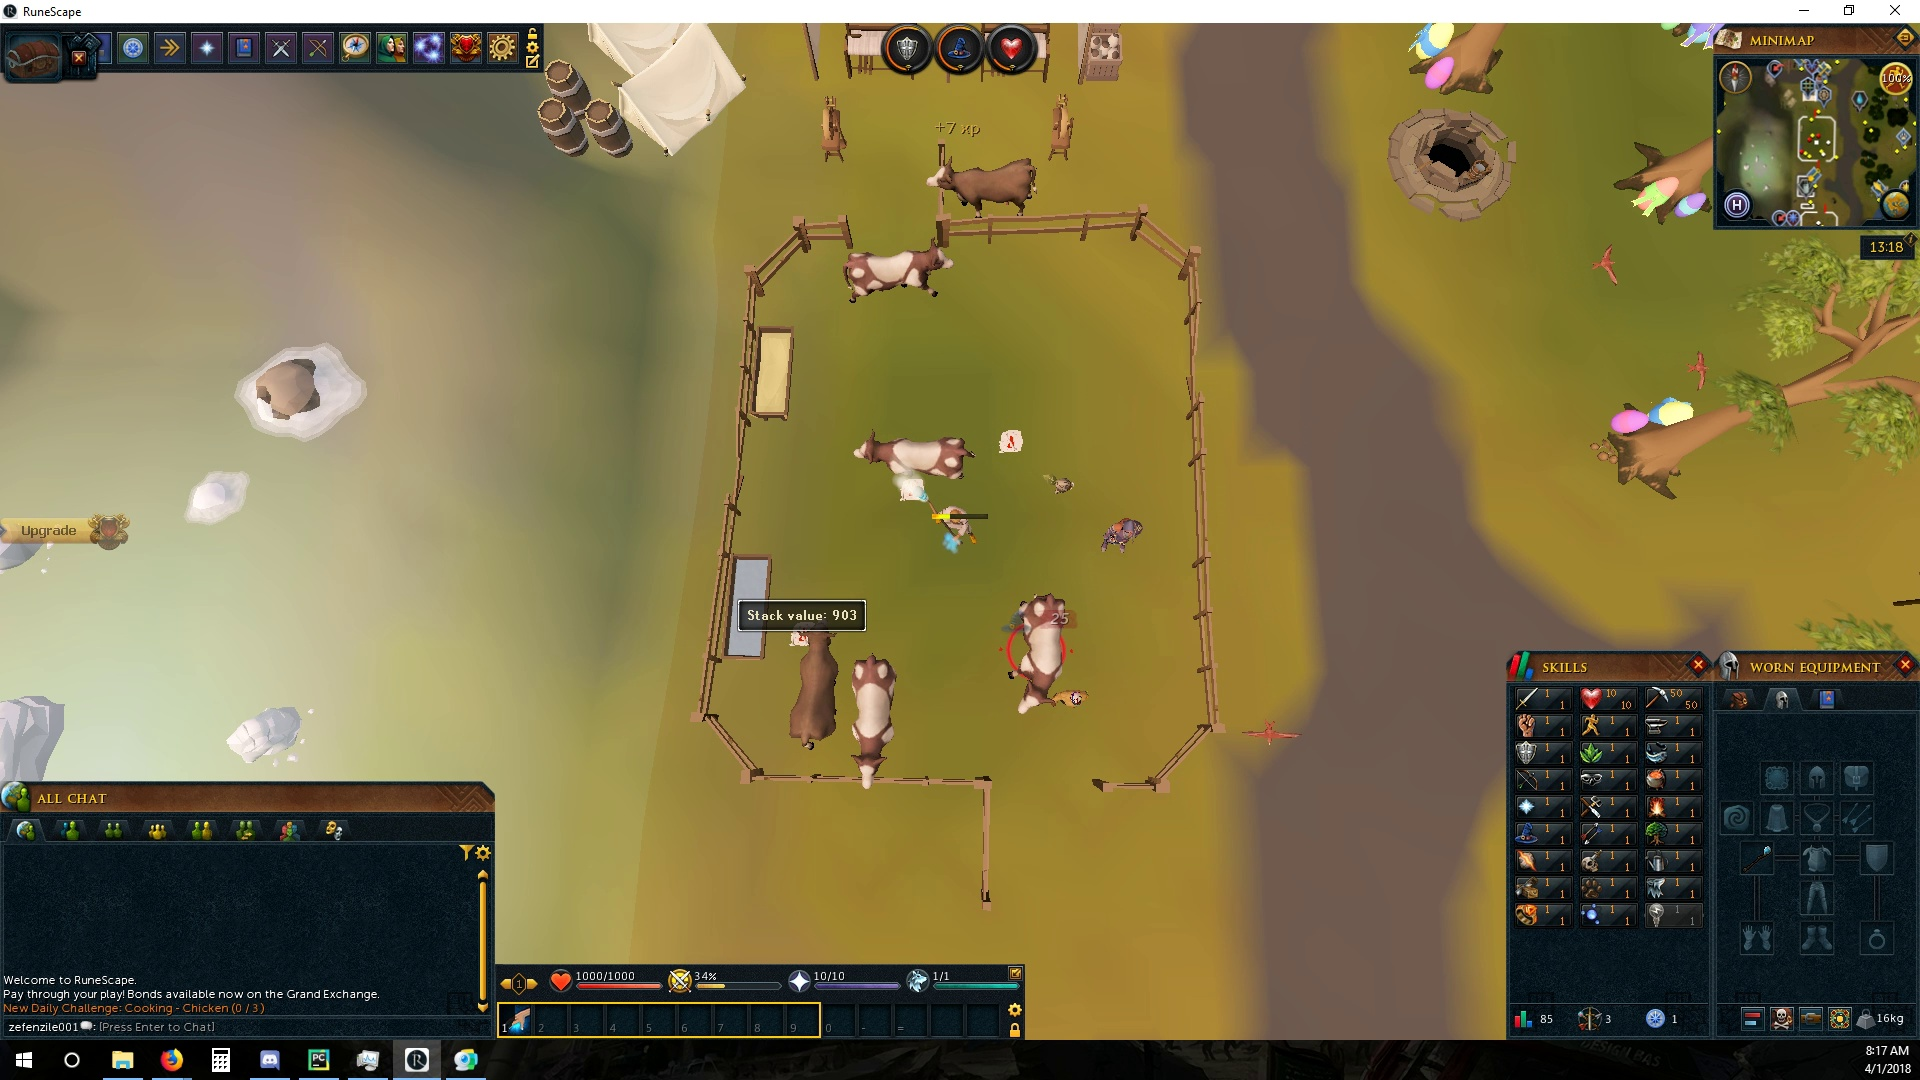cow: (836, 237, 953, 306), (1006, 591, 1069, 717), (926, 156, 1043, 216), (785, 629, 840, 752), (849, 651, 895, 791), (853, 431, 976, 481)
cow_drop: (894, 477, 927, 505), (996, 427, 1025, 454)
